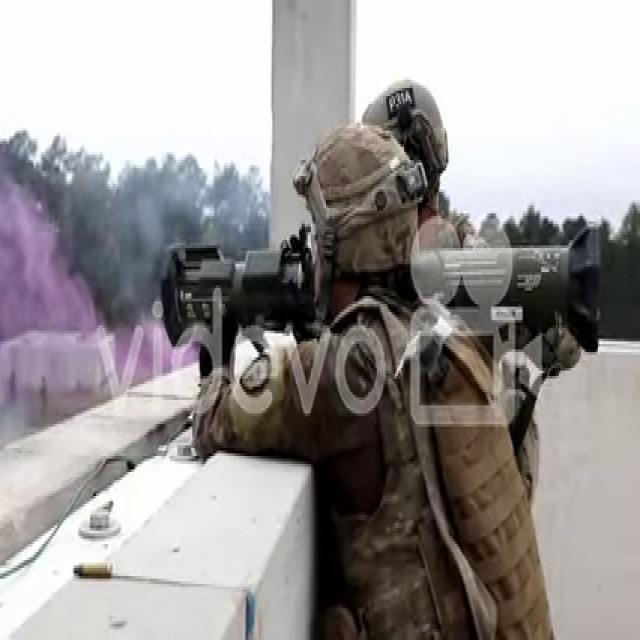bazooka: (160, 221, 611, 367)
